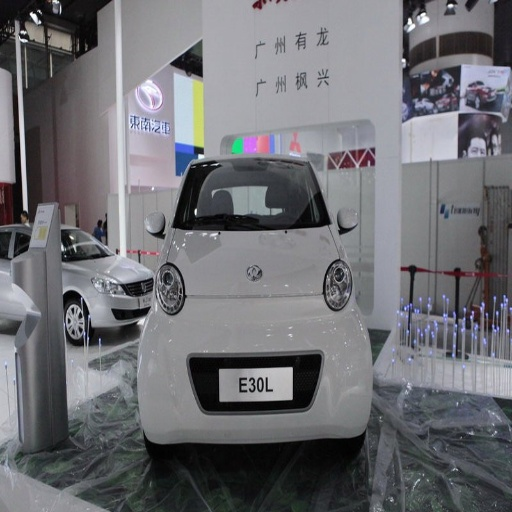back_bumper: (329, 315, 364, 375)
front_bumper: (139, 302, 370, 442)
trunk: (178, 232, 332, 390)
